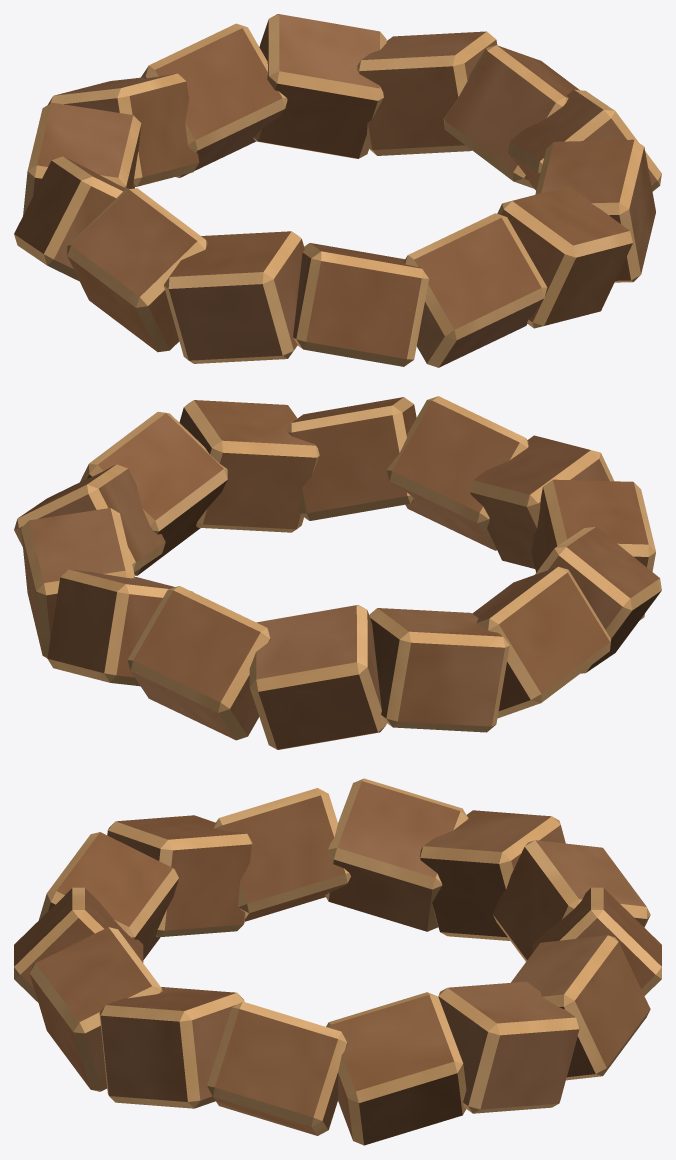
The model's file is sm_prop_rope_coil.glb.
3 views of the same model, one above another, from view 1: azimuth 30°, elevation 25°; view 2: azimuth 150°, elevation 25°; view 3: azimuth 270°, elevation 25° (orthographic).
Parts seen in each view (by area): view 1: sm_prop_rope_coil; view 2: sm_prop_rope_coil; view 3: sm_prop_rope_coil.
Part boxes in pixels (box(x1,y1,x2,y2)): sm_prop_rope_coil: box(14, 14, 661, 367); sm_prop_rope_coil: box(14, 396, 661, 749); sm_prop_rope_coil: box(14, 778, 661, 1145).
Bounding box in the file's own units: 0.2953 × 0.0672 × 0.2923.
Materials: 1 (1 with a texture image).
